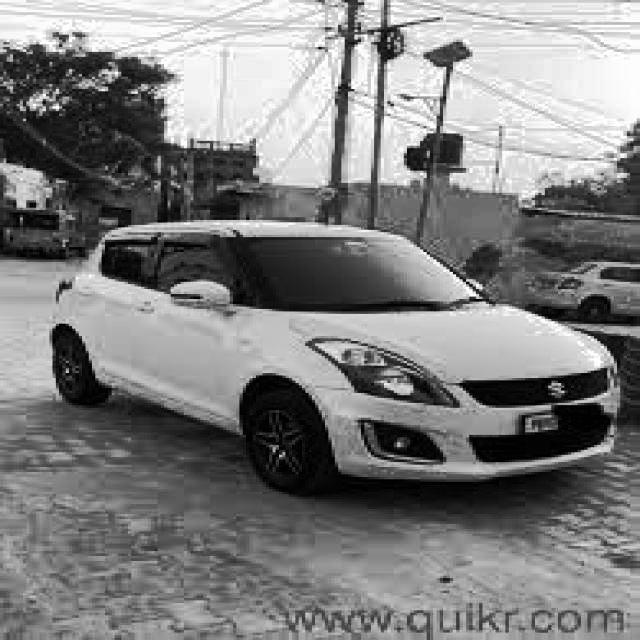Car: (48, 212, 632, 504)
